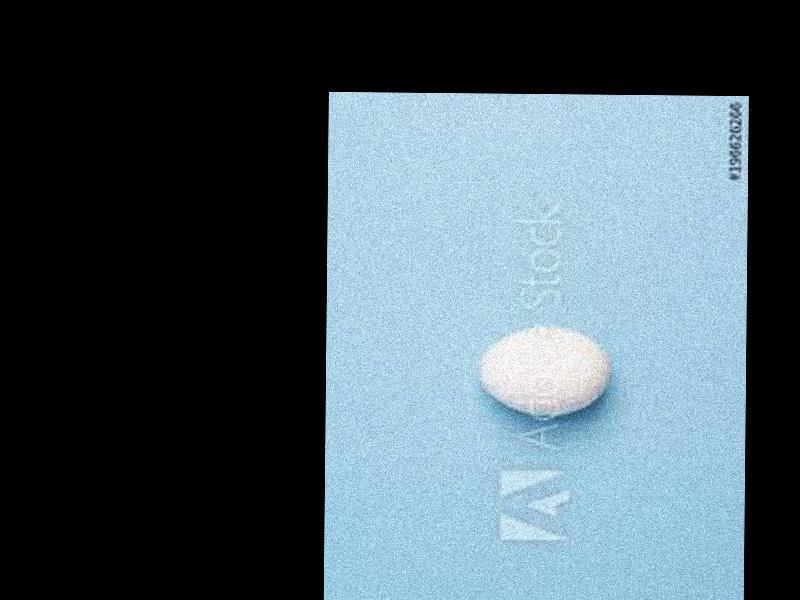Eggs: (482, 327, 609, 416)
